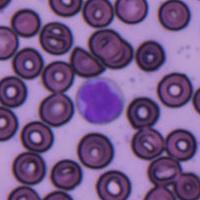M: (76, 76, 124, 124)
